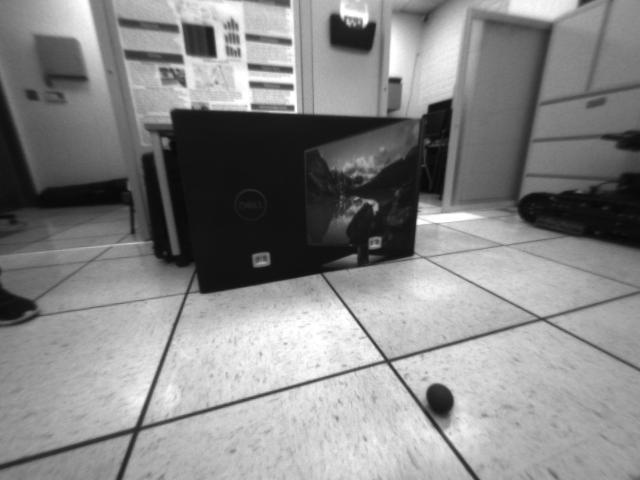dogtoy: (420, 376, 462, 421)
